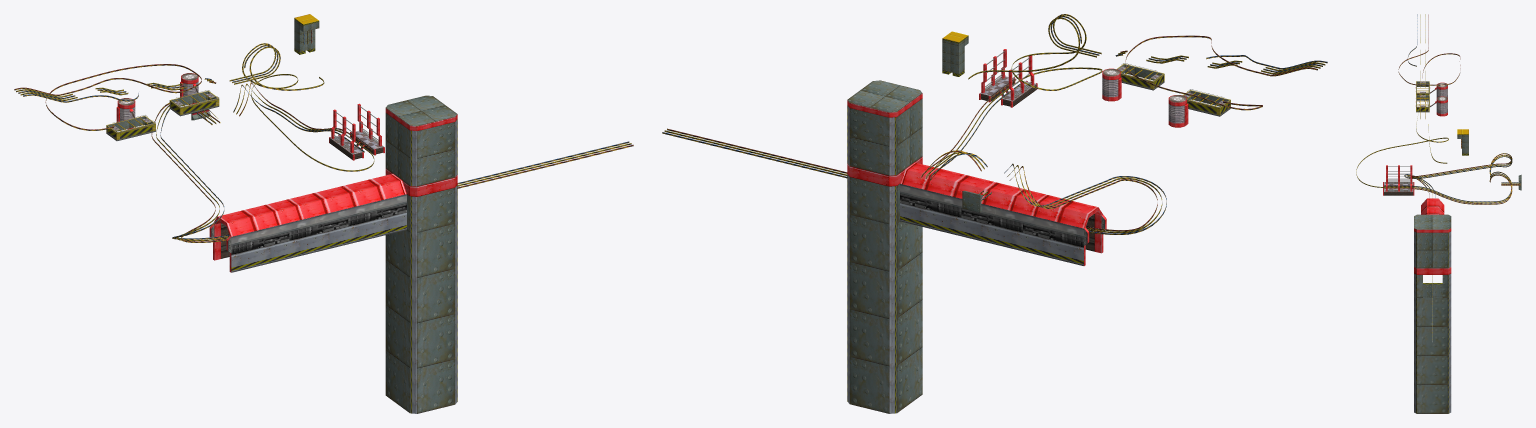
File: railcanyon13.obj
3 renders of one model, left to right at view 1: azimuth 30°, elevation 25°; view 2: azimuth 150°, elevation 25°; view 3: azimuth 270°, elevation 25°, orthographic. The views are drawn at different scales.
Visible parts, largest first — view 1: Object_2, obj1; view 2: Object_2, obj1; view 3: Object_2, obj1.
Boxes of the visible parts, x1,y1,x2,y2 form: Object_2: [14, 14, 633, 413]; obj1: [106, 73, 384, 160]; Object_2: [662, 14, 1327, 413]; obj1: [979, 64, 1230, 127]; Object_2: [1356, 14, 1521, 413]; obj1: [1383, 81, 1447, 195].
Bounding box in the file's own units: 4700 × 2982 × 1692.
Materials: 41 (40 with a texture image).
